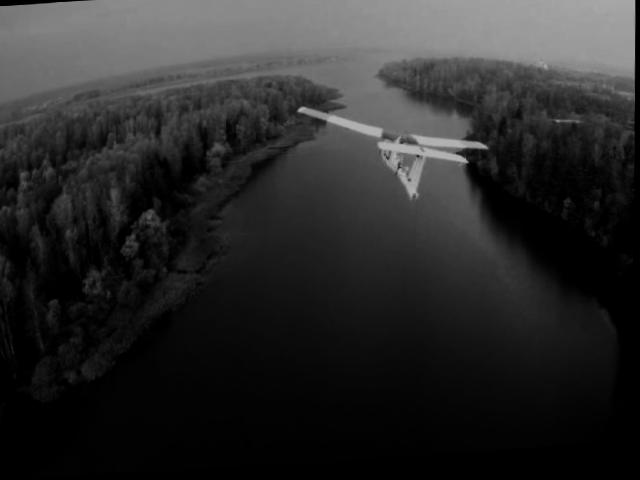hedef: (287, 91, 501, 226)
